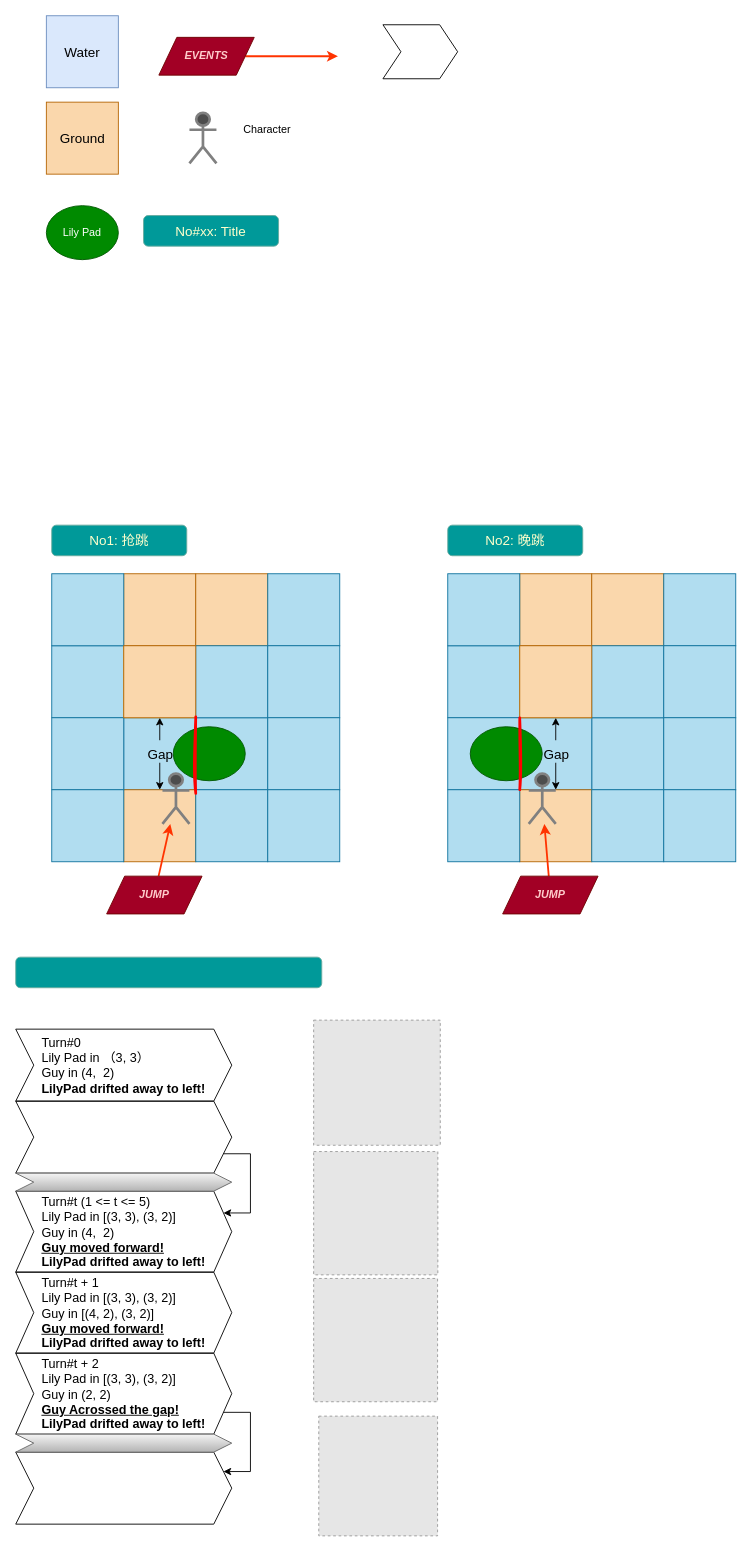
This 752x1552 diagram has some shape labels left out. Grey dashed boxes stand in for pictures. The shapes that lost their labels are listed below. From the top down, each one's centre as x and y in pixels, then its label:
At pixel 420 51: "Turn".
At pixel 168 972: "No3： 抢跳 过程中的事件顺序(Faked Turn Ids)".
At pixel 123 1136: "Turn#1 Lily Pad in [(3, 3), (3, 2)] Guy in (4, 2) LilyPad drifted away to left!".
At pixel 123 1487: "Turn#6 Lily Pad in [(3, 2), (3, 1)] Guy in (2, 2) LilyPad drifted away to left!".
